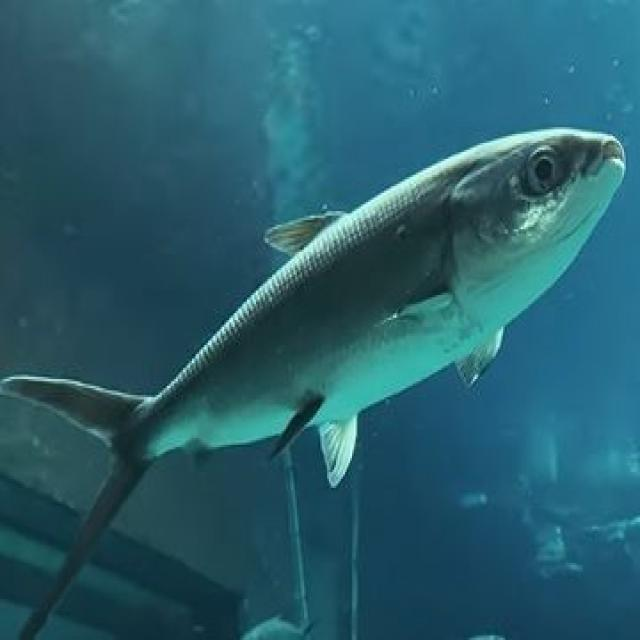Bangus: (31, 71, 631, 595)
